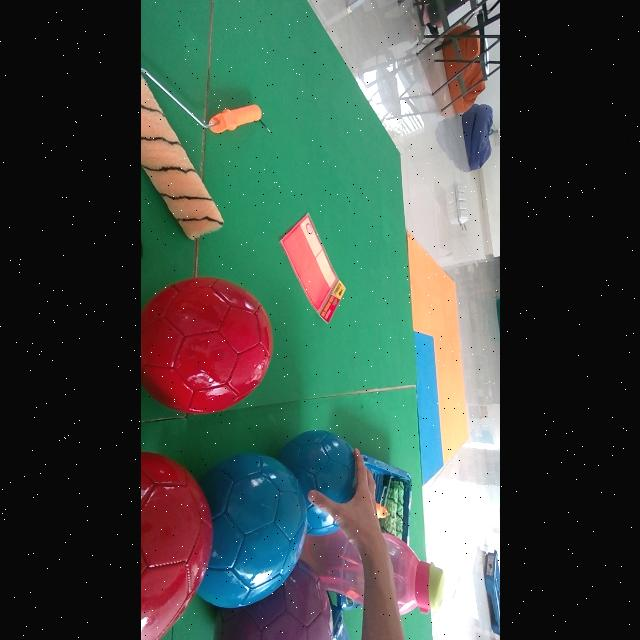B: (198, 454, 307, 608), (277, 429, 356, 502), (307, 502, 338, 536)
P: (220, 560, 332, 640)
R: (140, 278, 273, 414), (140, 453, 212, 640)
